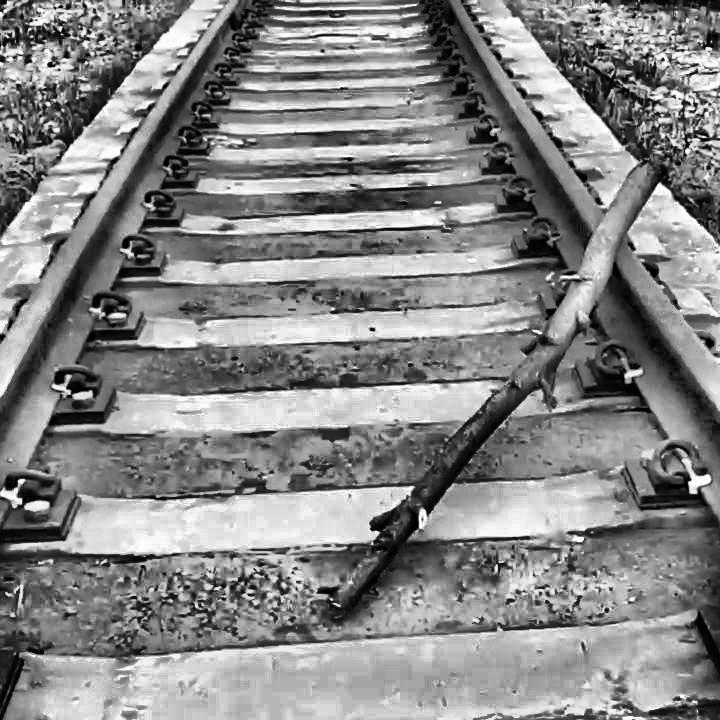Trash: (305, 131, 672, 630)
